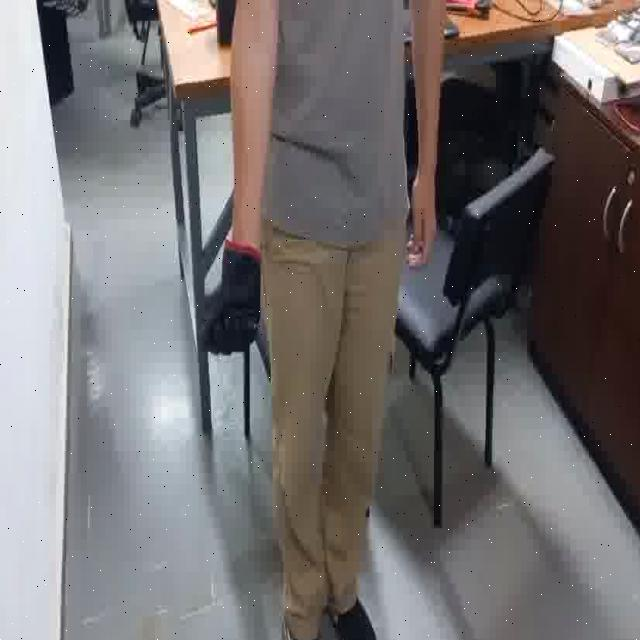Gloves: (198, 235, 265, 355)
